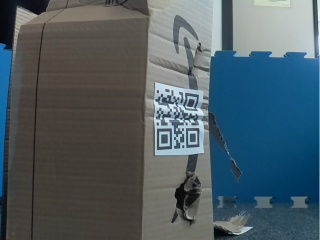caja_rota: (17, 5, 214, 240)
